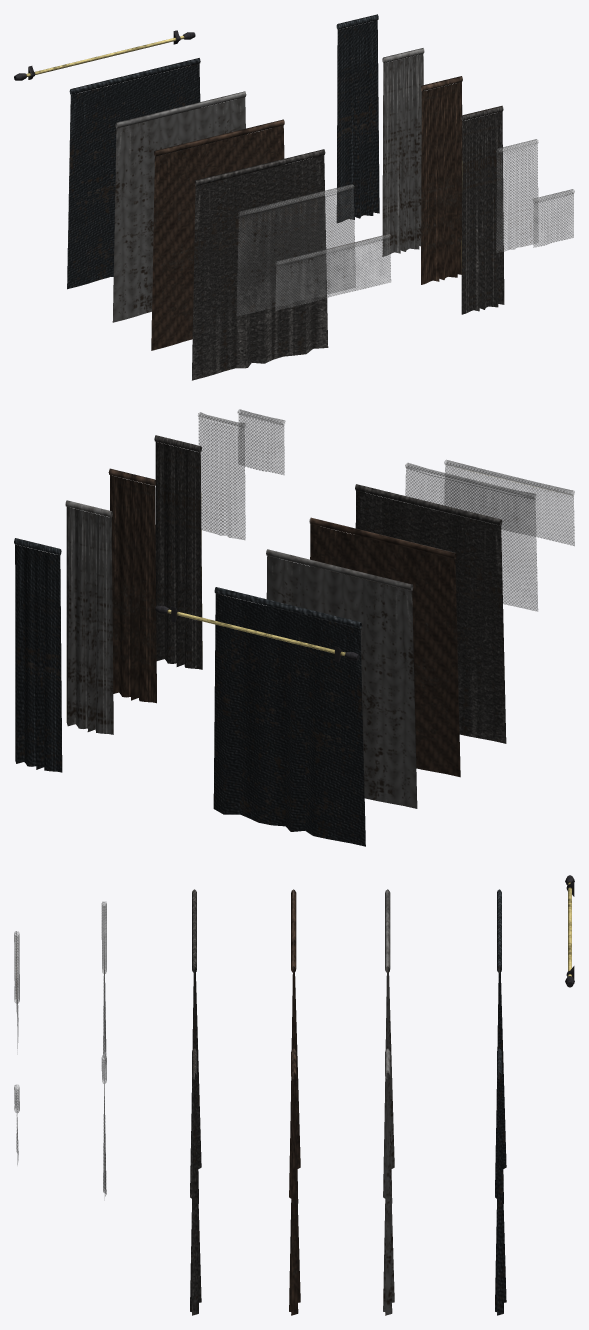
File: old_curtains.glb
The picture shows the model from 3 angles, top to bottom: view 1: azimuth 30°, elevation 25°; view 2: azimuth 150°, elevation 25°; view 3: azimuth 270°, elevation 25°; orthographic projection. The views are drawn at different scales.
Parts seen in each view (by area): view 1: Object_2; view 2: Object_2; view 3: Object_2.
Boxes of the visible parts, x1,y1,x2,y2 form: Object_2: (14, 14, 574, 380); Object_2: (14, 409, 574, 846); Object_2: (14, 875, 574, 1315).
Bounding box in the file's own units: 174 × 100 × 207.
1 material, 1 textured.
